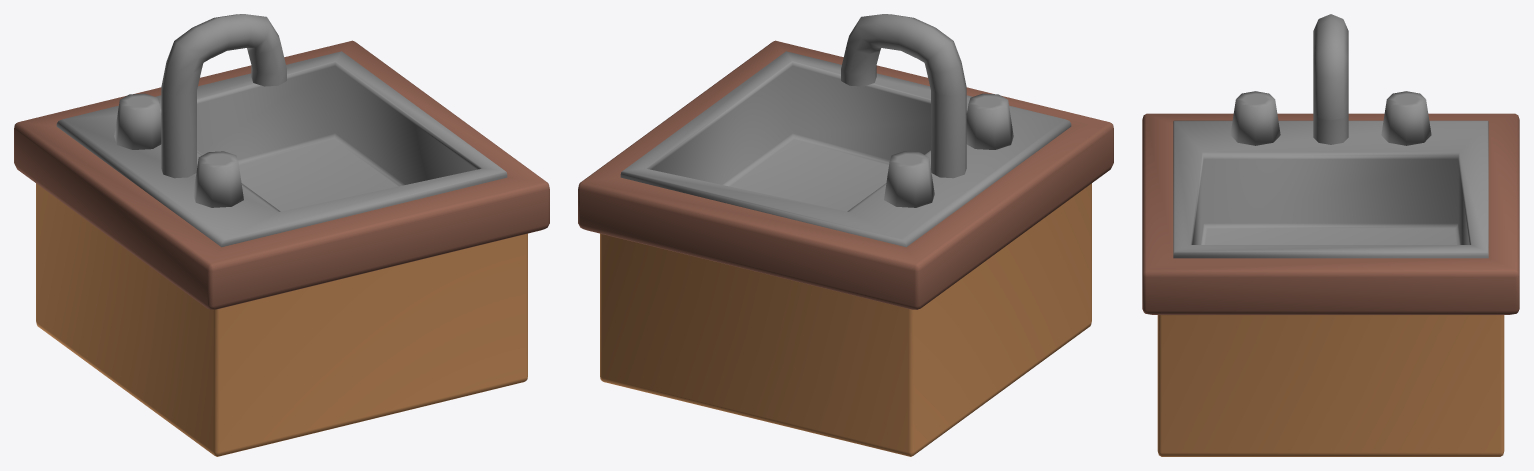
File: MDL_Sink.fbx
3 views of the same model, side by side, from view 1: azimuth 30°, elevation 25°; view 2: azimuth 150°, elevation 25°; view 3: azimuth 270°, elevation 25° (orthographic). The views are drawn at different scales.
Parts seen in each view (by area): view 1: mesh_countersmall.001; view 2: mesh_countersmall.001; view 3: mesh_countersmall.001.
Part boxes in pixels (left/top/right/bottom): mesh_countersmall.001: left=14, top=14, right=549, bottom=456; mesh_countersmall.001: left=578, top=14, right=1113, bottom=456; mesh_countersmall.001: left=1142, top=14, right=1519, bottom=456.
Size of the model in its own units: 100 by 98.44 by 100.
1 material, 1 textured.
